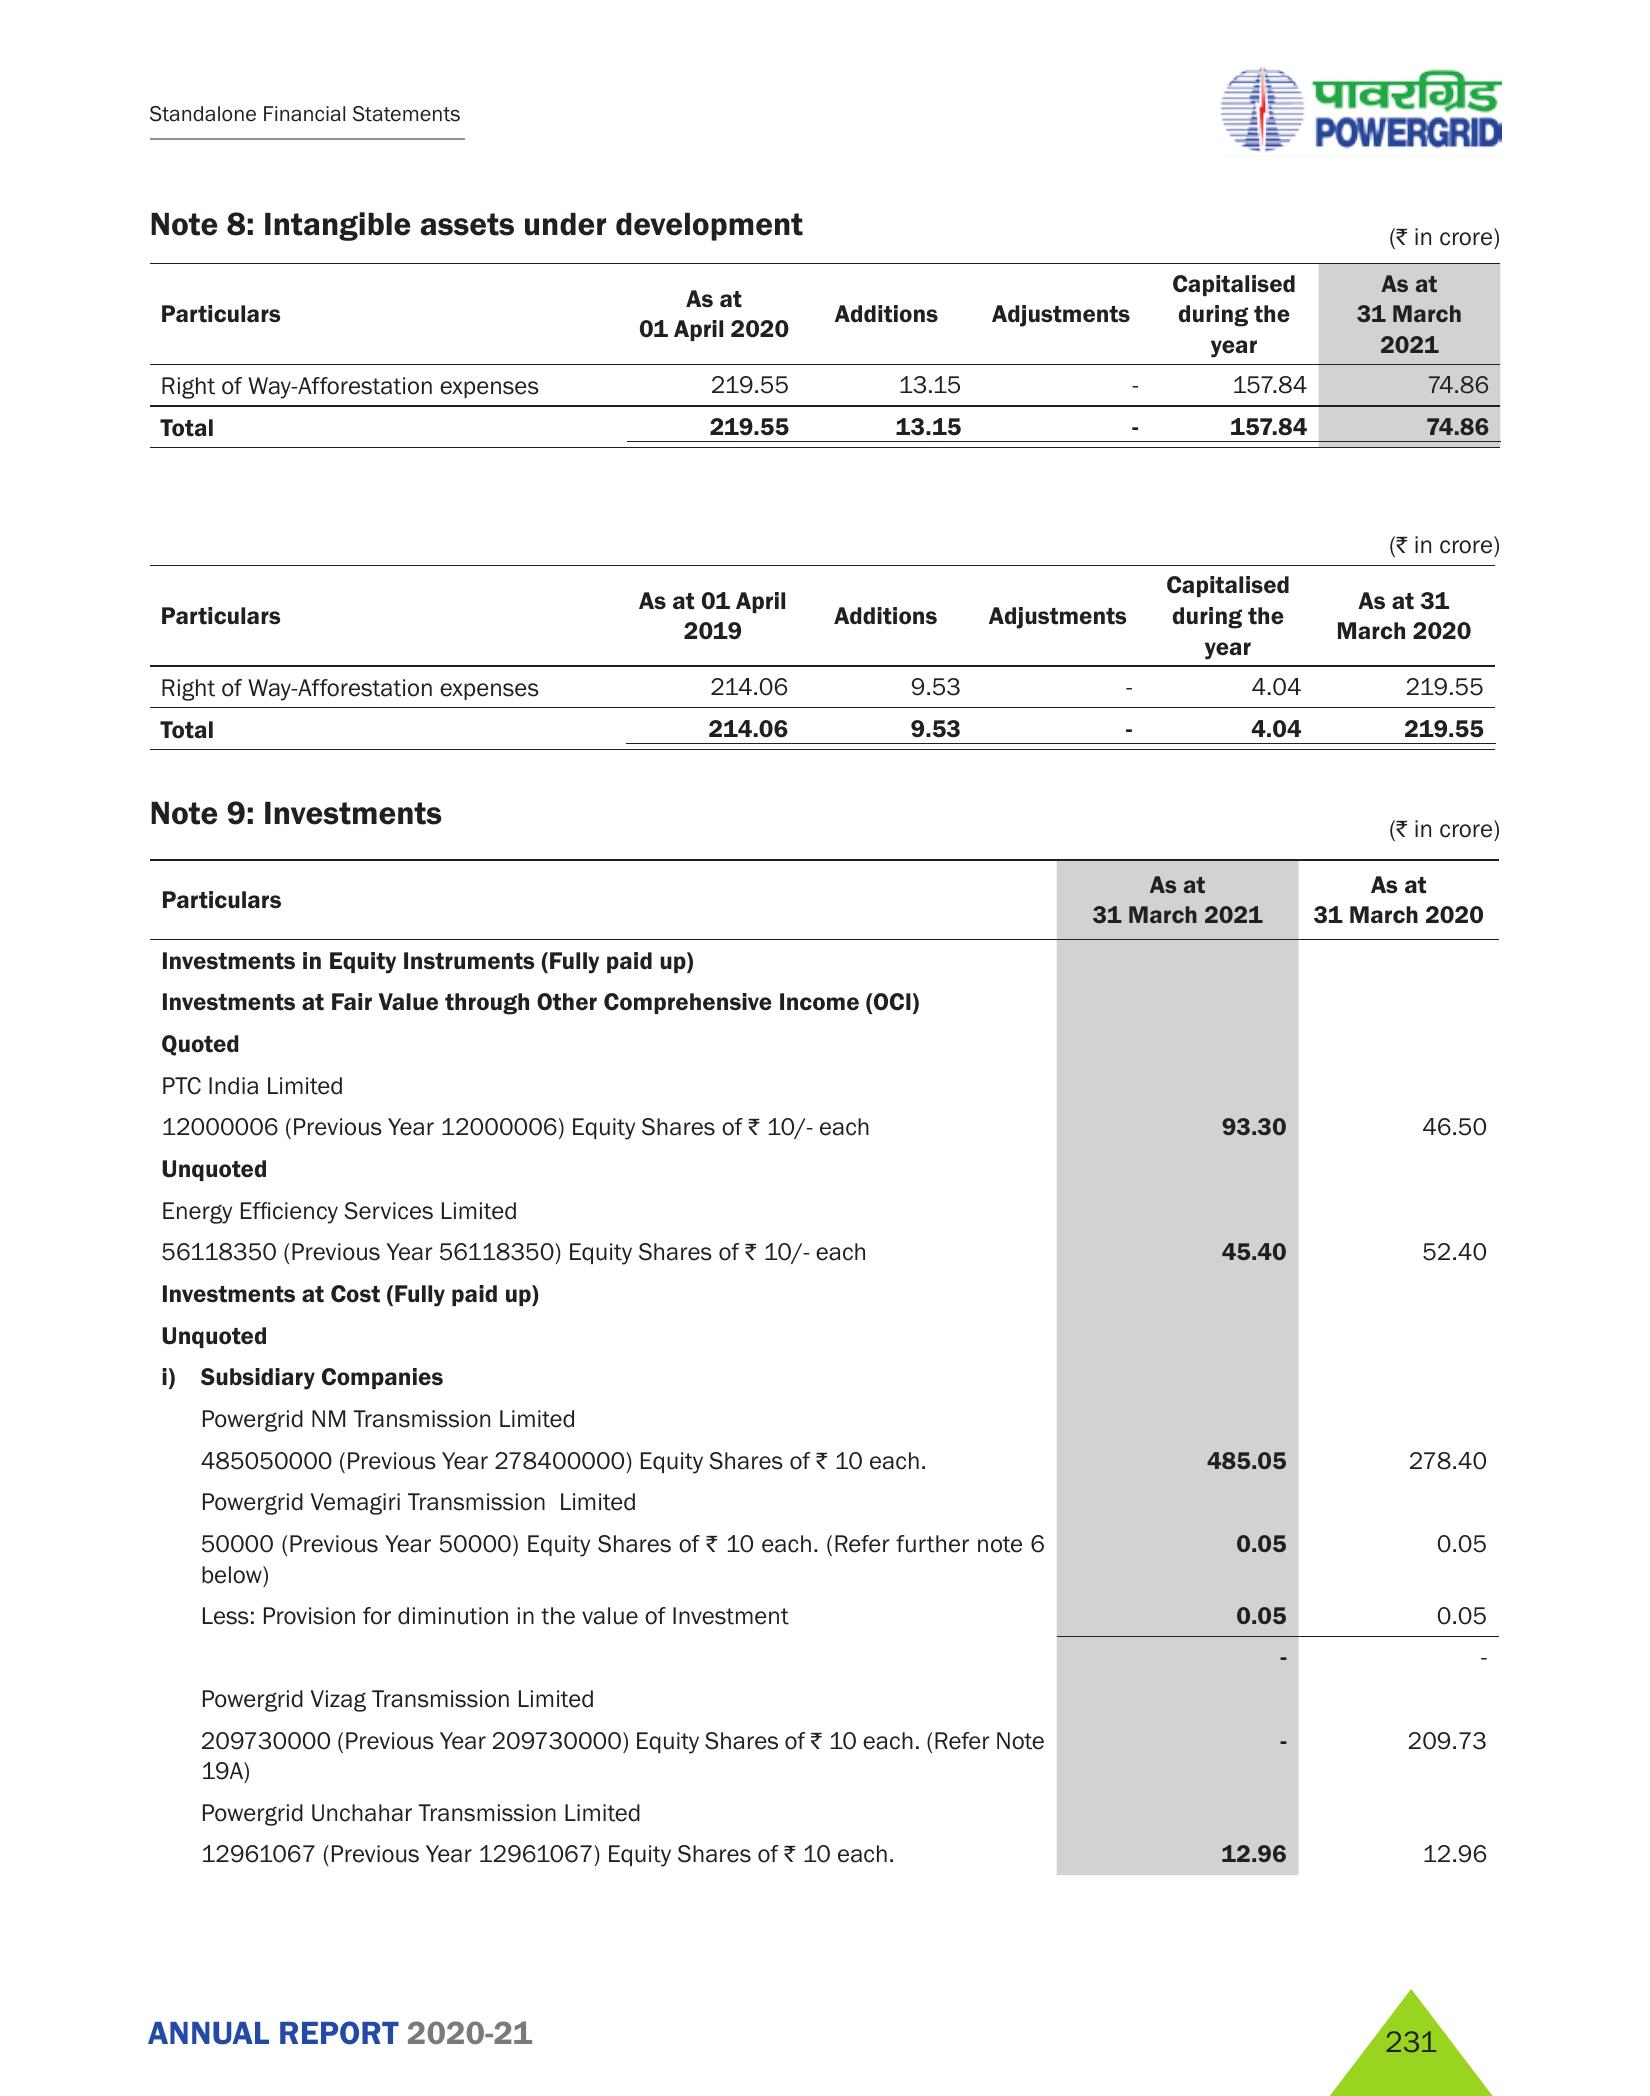Footer: (0, 1962, 1650, 2096)
Header: (0, 0, 1650, 163)
Table: (158, 825, 1511, 1883), (129, 507, 1511, 749), (146, 257, 1545, 446)
